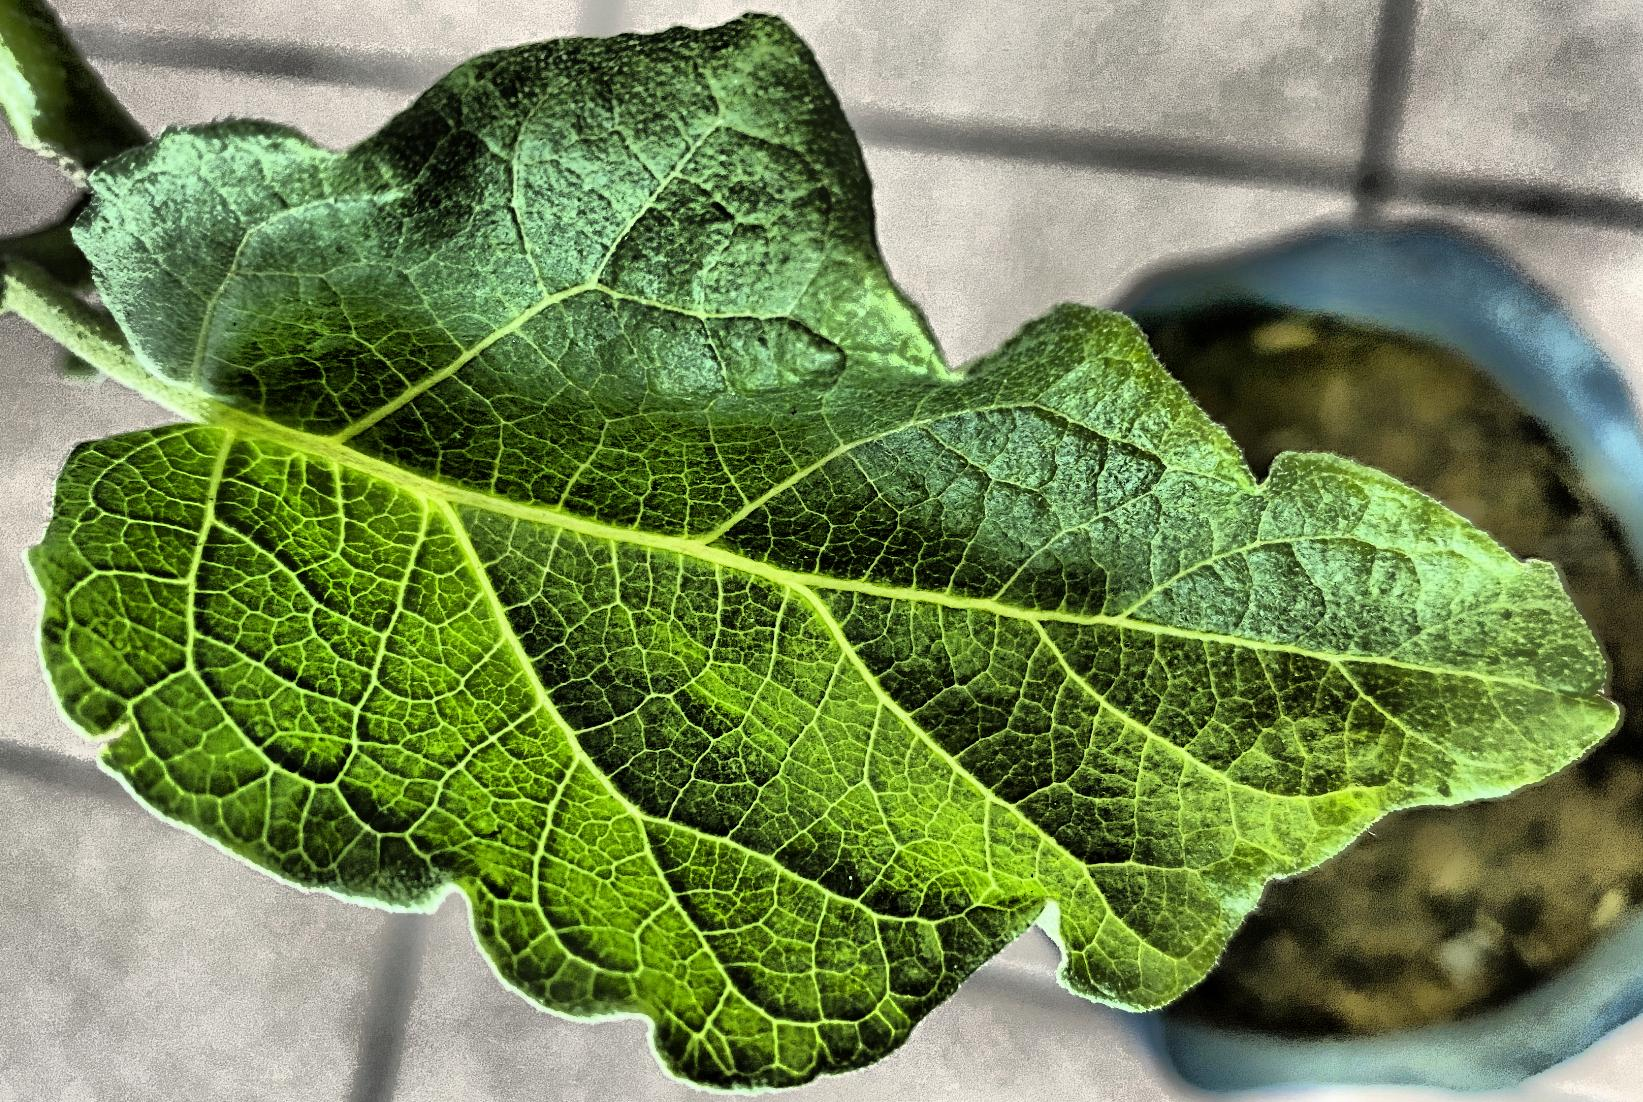HEALTHY: (0, 0, 1643, 1101)
